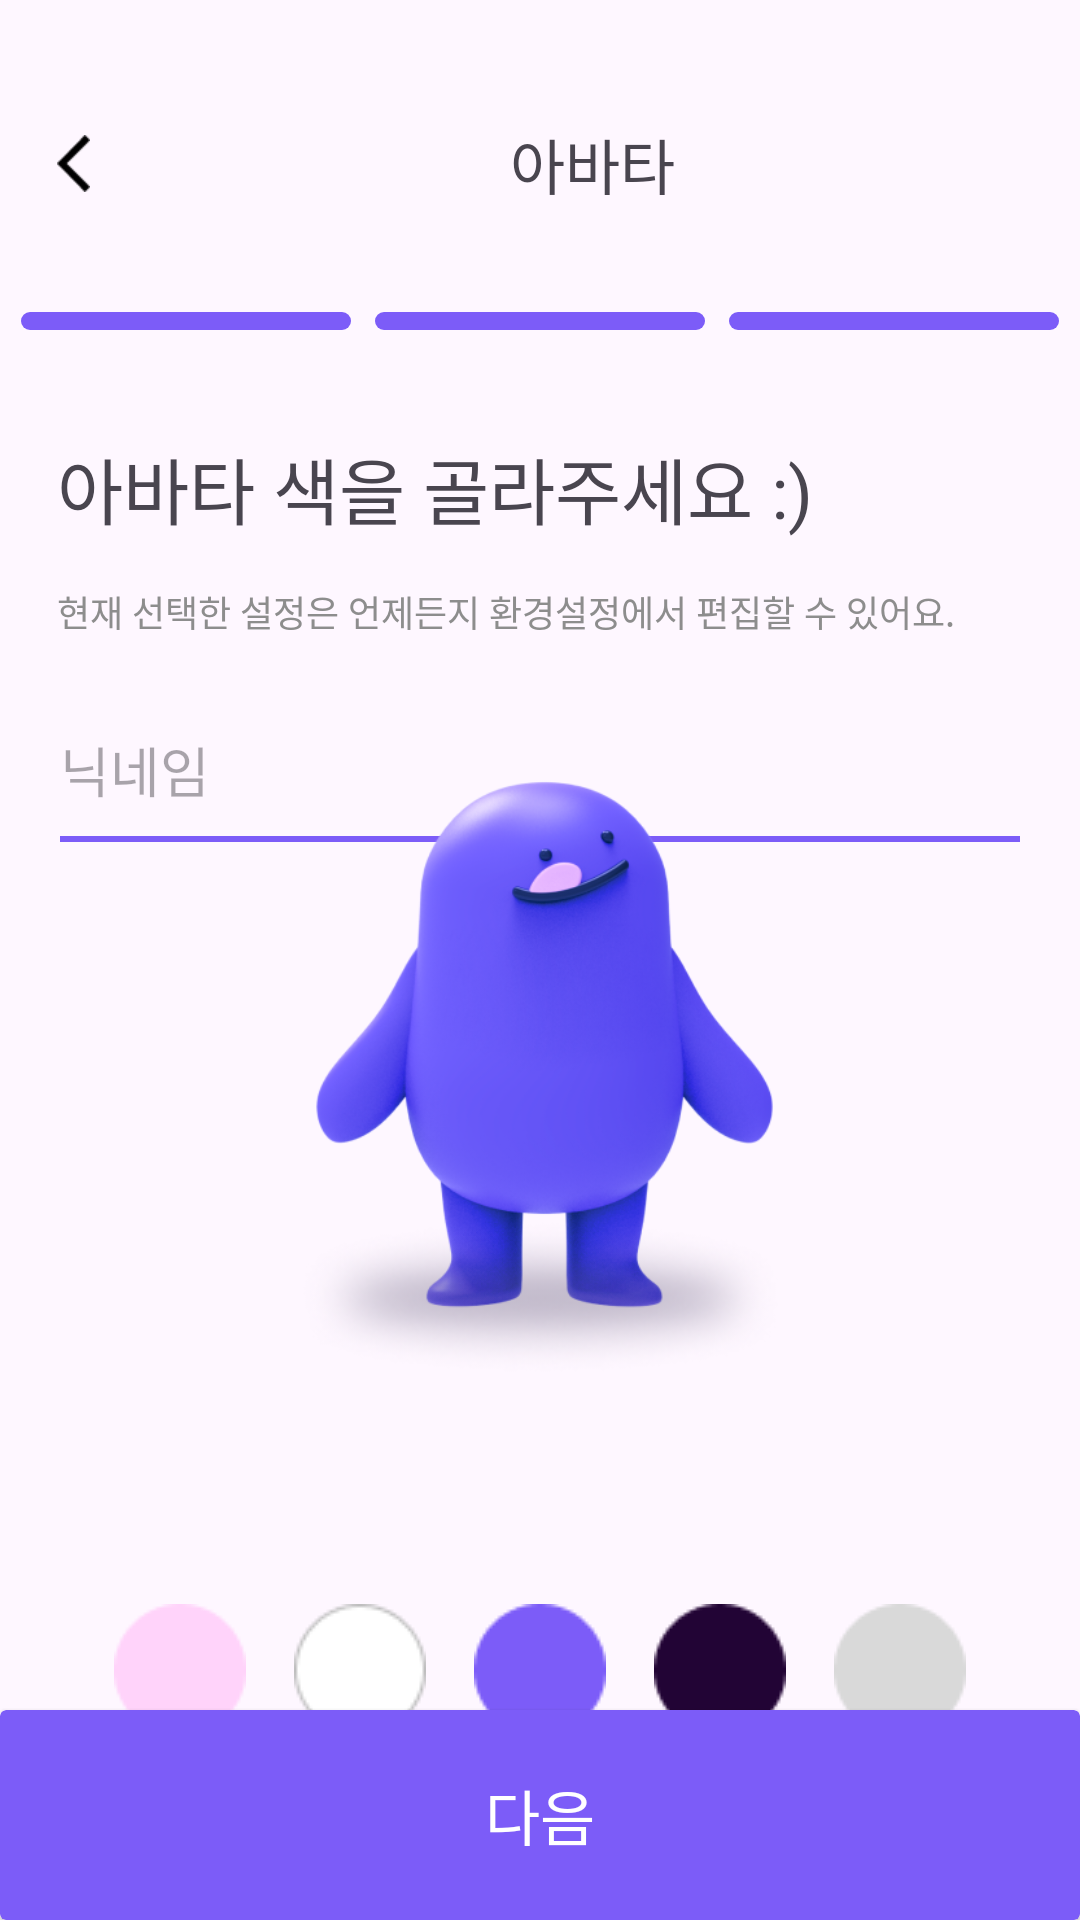

Icons on this 1080w x 1920h Android screen, each with the point to tap as (x,y):
back: (73,163)
